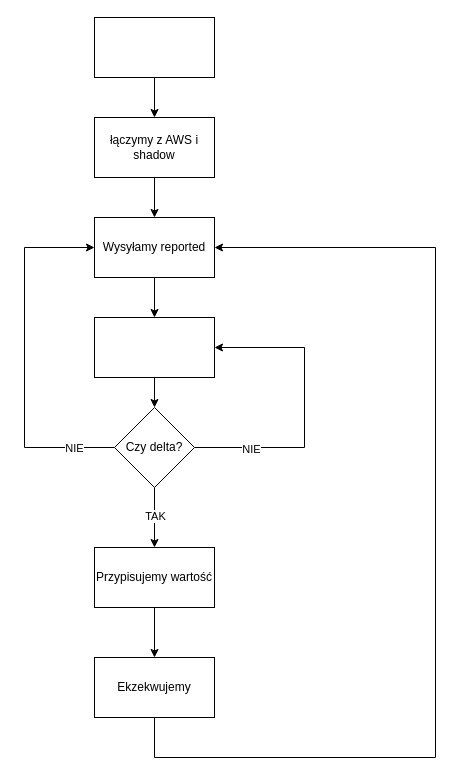
Image size: 461x783. Some labels were removed from this diagram. The shapes that lost their labels are listed below. From the top down, each one's centre as x and y in pixels, then its label:
the point at 154,47: łączymy się z WiFi
the point at 154,347: Odczytujemy delte
